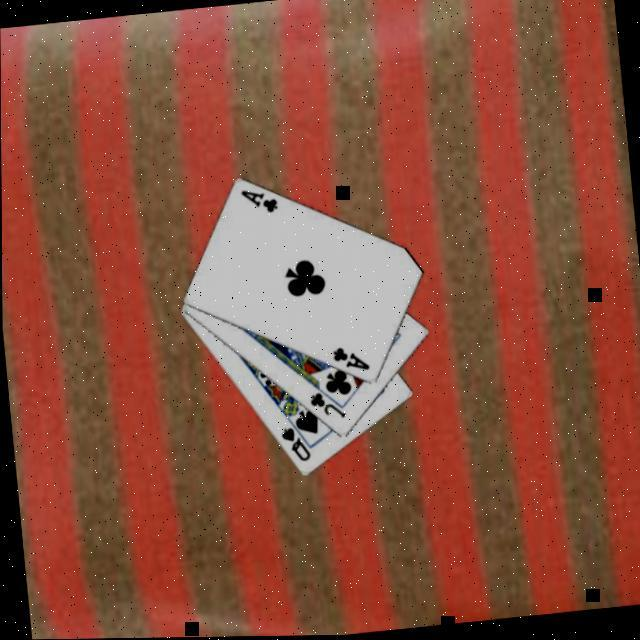AC: (235, 183, 279, 218), (327, 341, 370, 375)
JC: (303, 385, 347, 423)
QS: (275, 421, 312, 465)
